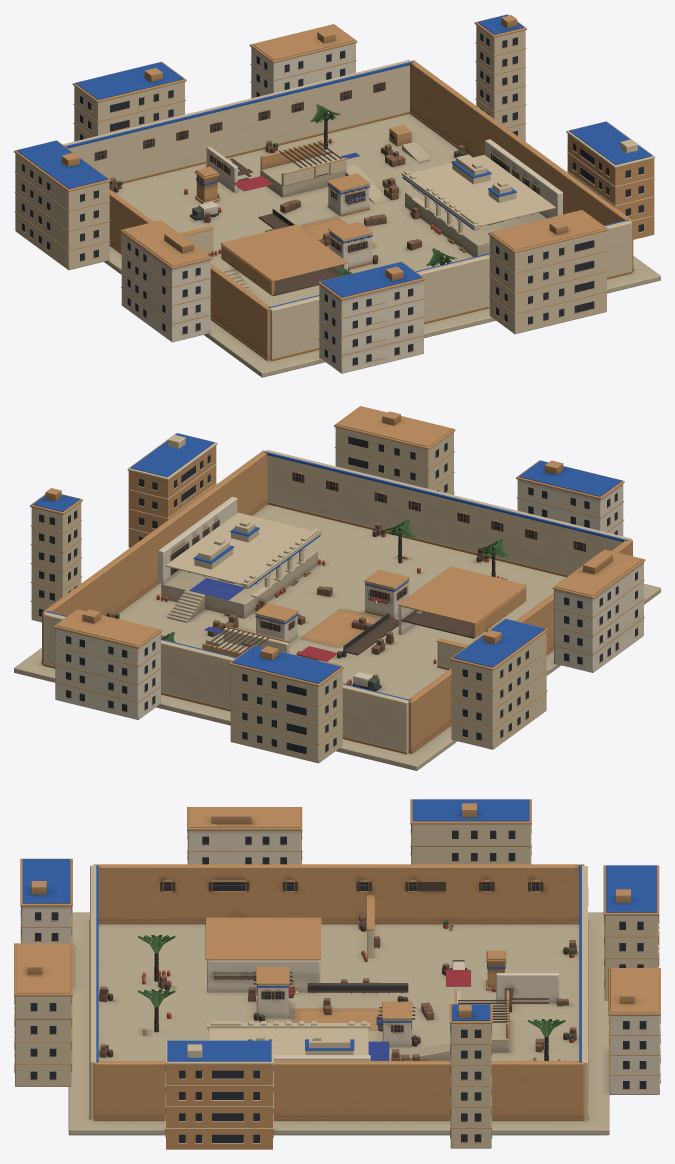
Rendered from hd_mirage.glb.
3 views of the same model, one above another, from view 1: azimuth 30°, elevation 25°; view 2: azimuth 150°, elevation 25°; view 3: azimuth 270°, elevation 25° (orthographic). The views are drawn at different scales.
Parts seen in each view (by area): view 1: Mirage_Horizon_sandstone_light_NonCol, Terrain_Paving, Mirage_Horizon_sandstone_ochre_NonCol, Mirage_Horizon_moorish_plaster_warm_NonCol, Wall_Perimeter_N, Wall_Perimeter_E, Mirage_Horizon_mosaic_tile_blue_NonCol, Wall_Perimeter_S, Mirage_Horizon_window_dark_NonCol, Palace_ArchDetail_Stone_NonCol, SiteB_Arch_Stone_NonCol, Wall_Perimeter_W (+13 smaller); view 2: Terrain_Paving, Mirage_Horizon_sandstone_light_NonCol, Mirage_Horizon_sandstone_ochre_NonCol, Mirage_Horizon_moorish_plaster_warm_NonCol, Wall_Perimeter_S, Wall_Perimeter_E, Wall_Perimeter_N, Mirage_Horizon_mosaic_tile_blue_NonCol, Mirage_Horizon_window_dark_NonCol, Palace_ArchDetail_Stone_NonCol, SiteB_Arch_Stone_NonCol, Wall_Perimeter_W (+13 smaller); view 3: Terrain_Paving, Wall_Perimeter_W, Mirage_Horizon_sandstone_ochre_NonCol, Wall_Perimeter_E, Mirage_Horizon_sandstone_light_NonCol, Mirage_Horizon_mosaic_tile_blue_NonCol, Mirage_Horizon_moorish_plaster_warm_NonCol, Mirage_Horizon_window_dark_NonCol, SiteB_Arch_Stone_NonCol, Palace_ArchDetail_Stone_NonCol, Trim_Plinths_NonCol, Market_Wall_W (+21 smaller).
Part boxes in pixels (x1=…): Mirage_Horizon_sandstone_light_NonCol: x1=15, y1=25, x2=655, y2=334; Terrain_Paving: x1=104, y1=114, x2=660, y2=377; Mirage_Horizon_sandstone_ochre_NonCol: x1=14, y1=14, x2=654, y2=366; Mirage_Horizon_moorish_plaster_warm_NonCol: x1=121, y1=43, x2=423, y2=373; Wall_Perimeter_N: x1=63, y1=60, x2=411, y2=182; Wall_Perimeter_E: x1=410, y1=60, x2=633, y2=271; Mirage_Horizon_mosaic_tile_blue_NonCol: x1=16, y1=14, x2=652, y2=297; Wall_Perimeter_S: x1=269, y1=220, x2=631, y2=360; Mirage_Horizon_window_dark_NonCol: x1=22, y1=33, x2=643, y2=365; Palace_ArchDetail_Stone_NonCol: x1=401, y1=154, x2=555, y2=234; SiteB_Arch_Stone_NonCol: x1=194, y1=166, x2=347, y2=295; Wall_Perimeter_W: x1=109, y1=189, x2=270, y2=360; Terrain_Paving: x1=14, y1=504, x2=660, y2=770; Mirage_Horizon_sandstone_light_NonCol: x1=31, y1=427, x2=546, y2=763; Mirage_Horizon_sandstone_ochre_NonCol: x1=30, y1=406, x2=645, y2=755; Mirage_Horizon_moorish_plaster_warm_NonCol: x1=55, y1=479, x2=643, y2=719; Wall_Perimeter_S: x1=265, y1=449, x2=631, y2=575; Wall_Perimeter_E: x1=42, y1=450, x2=267, y2=663; Wall_Perimeter_N: x1=43, y1=612, x2=408, y2=753; Mirage_Horizon_mosaic_tile_blue_NonCol: x1=33, y1=433, x2=621, y2=683; Mirage_Horizon_window_dark_NonCol: x1=39, y1=436, x2=637, y2=754; Palace_ArchDetail_Stone_NonCol: x1=166, y1=512, x2=321, y2=597; SiteB_Arch_Stone_NonCol: x1=326, y1=566, x2=526, y2=666; Wall_Perimeter_W: x1=408, y1=539, x2=632, y2=753; Terrain_Paving: x1=68, y1=912, x2=609, y2=1135; Wall_Perimeter_W: x1=93, y1=864, x2=584, y2=921; Mirage_Horizon_sandstone_ochre_NonCol: x1=14, y1=799, x2=660, y2=1149; Wall_Perimeter_E: x1=93, y1=1060, x2=584, y2=1118; Mirage_Horizon_sandstone_light_NonCol: x1=15, y1=824, x2=658, y2=1148; Mirage_Horizon_mosaic_tile_blue_NonCol: x1=22, y1=799, x2=656, y2=1061; Mirage_Horizon_moorish_plaster_warm_NonCol: x1=21, y1=830, x2=659, y2=1094; Mirage_Horizon_window_dark_NonCol: x1=14, y1=824, x2=660, y2=1142; SiteB_Arch_Stone_NonCol: x1=205, y1=917, x2=506, y2=990; Palace_ArchDetail_Stone_NonCol: x1=207, y1=1021, x2=370, y2=1054; Trim_Plinths_NonCol: x1=89, y1=920, x2=588, y2=1120; Market_Wall_W: x1=496, y1=973, x2=559, y2=1003.
Size of what is drawn, in the model's own units: 294 by 75.93 by 309.
